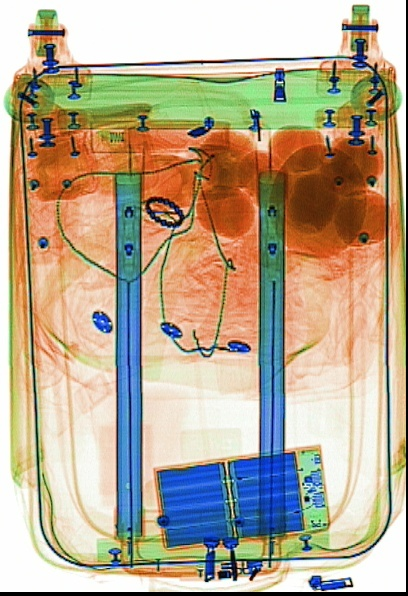powerbank: (150, 440, 332, 551)
